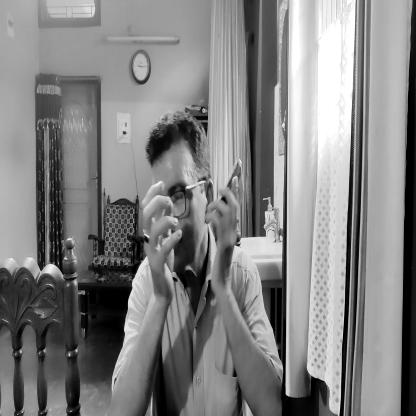Distracted: (145, 109, 214, 283)
